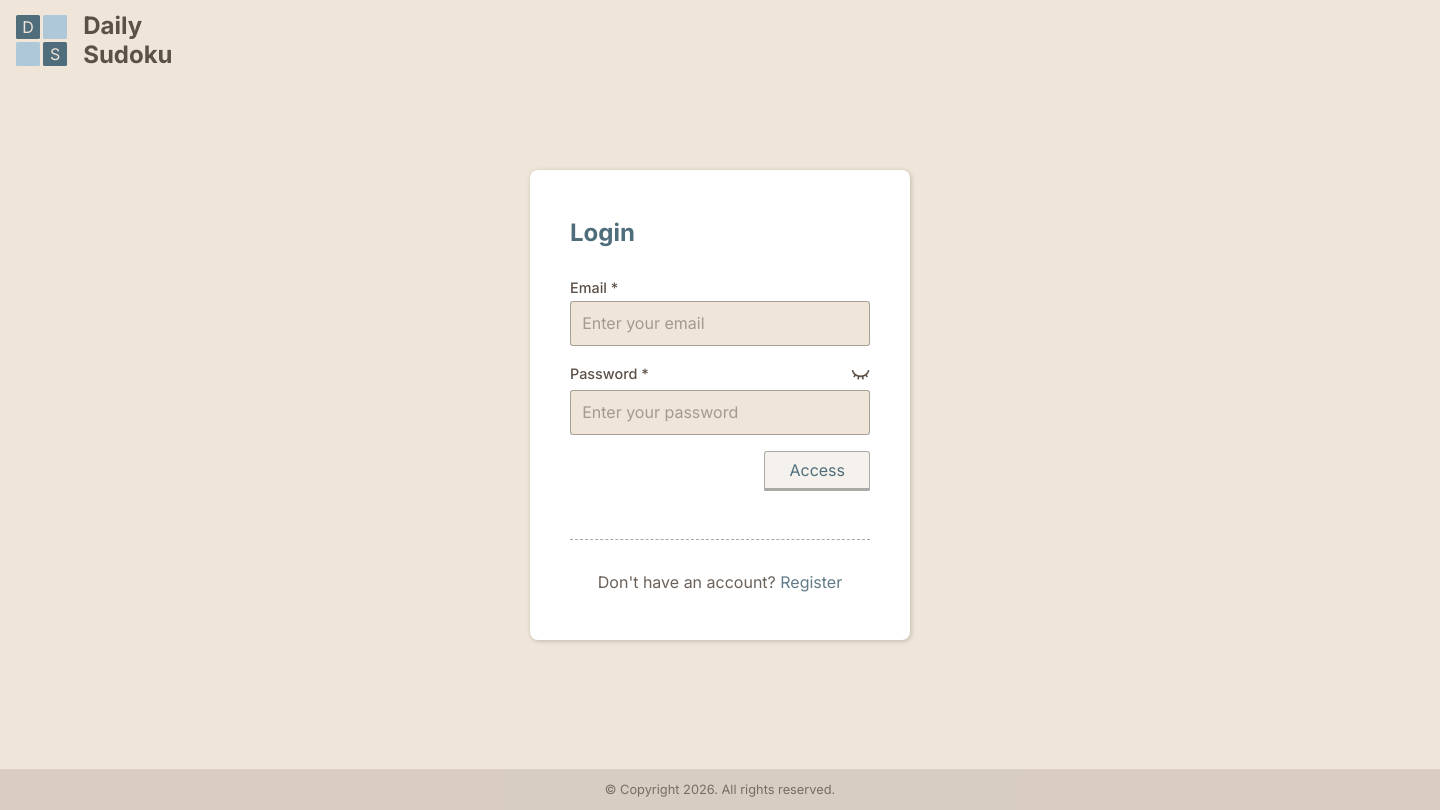
Login Page › shows error for invalid credentials
Type "wrongemail@example.com" into the field labelled "Email *" at (720, 323), box [570,301,870,346]
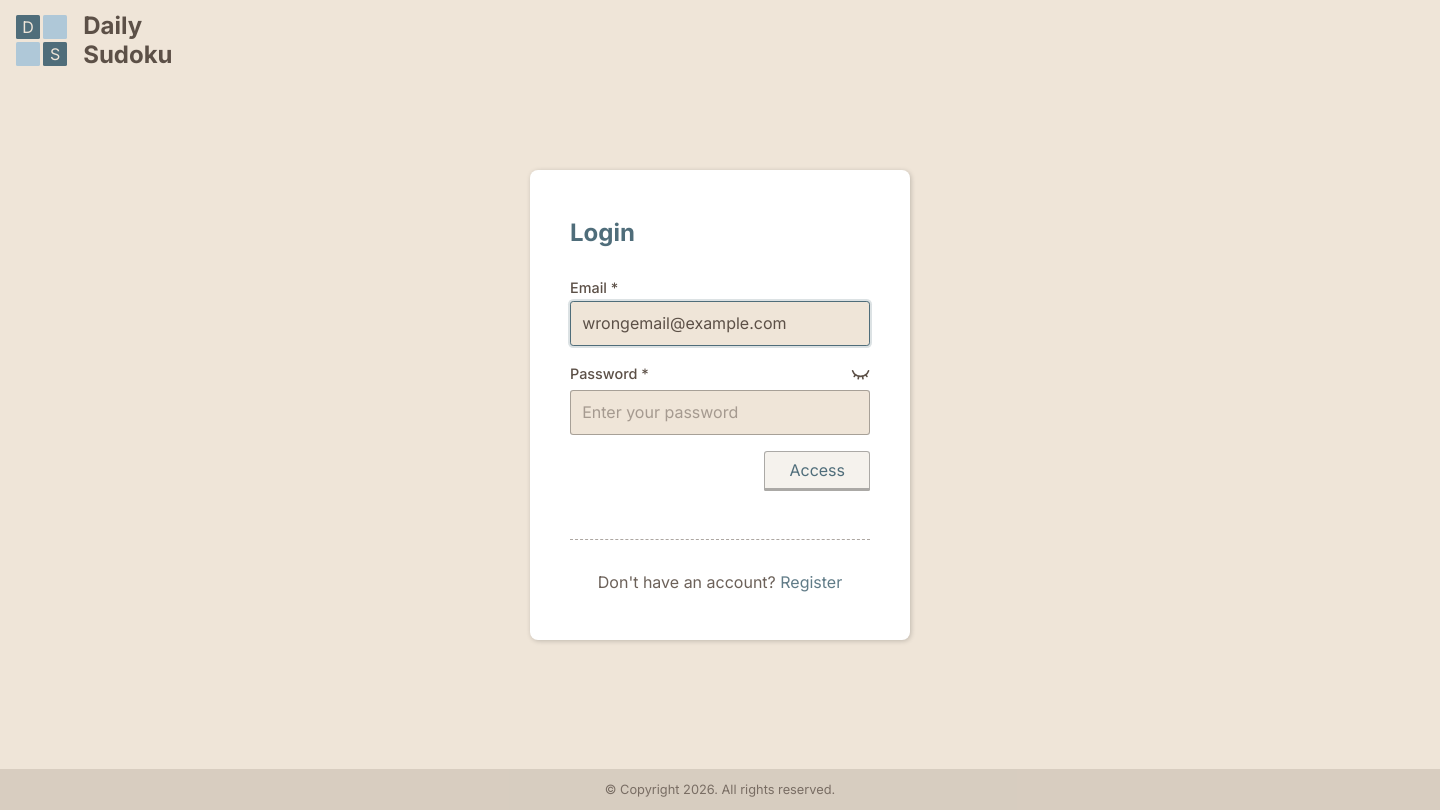
Type "some-password-invalid" into the password field labelled "Password *" at (720, 412), box [570,390,870,435]
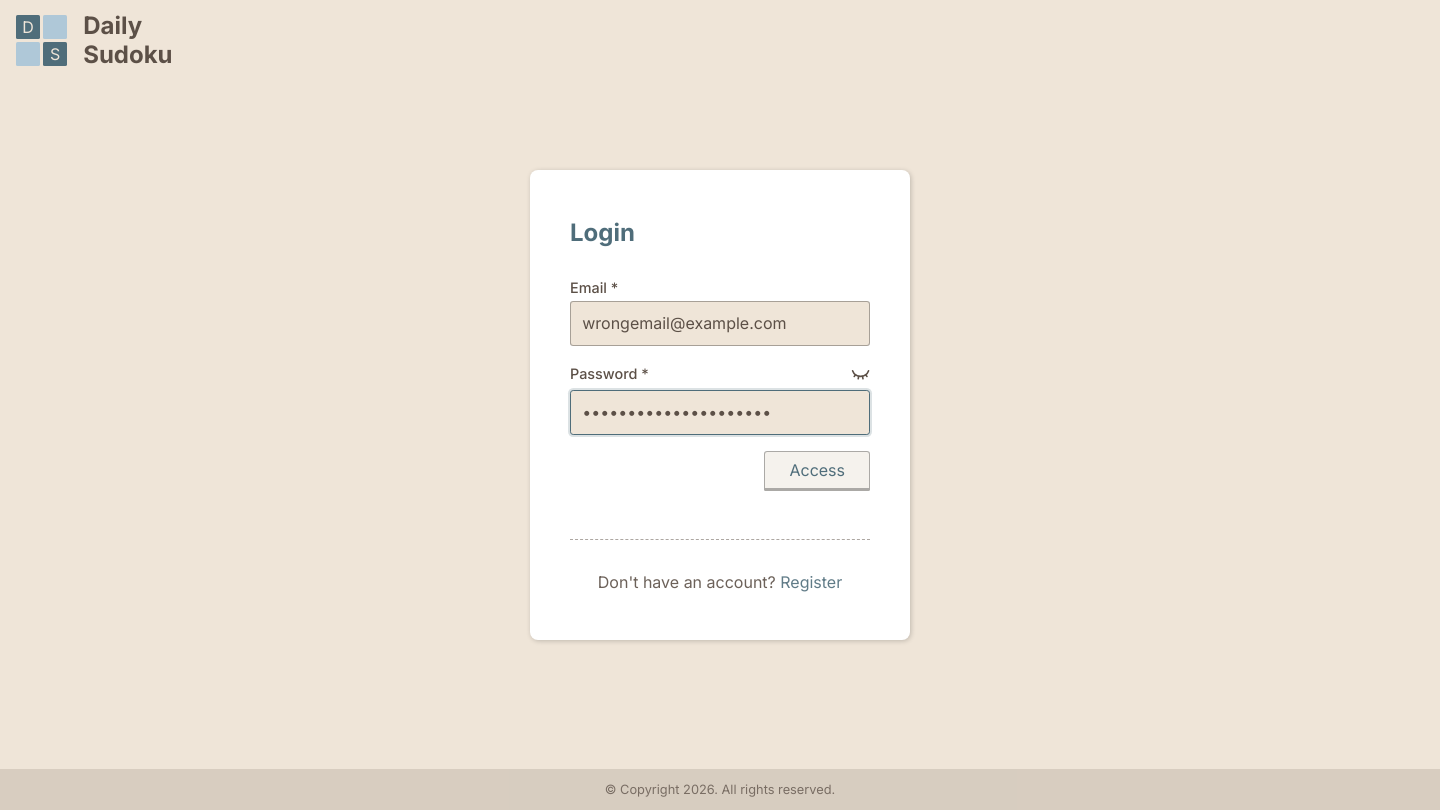
Click the button "Access" at (817, 471), box [764,451,870,491]
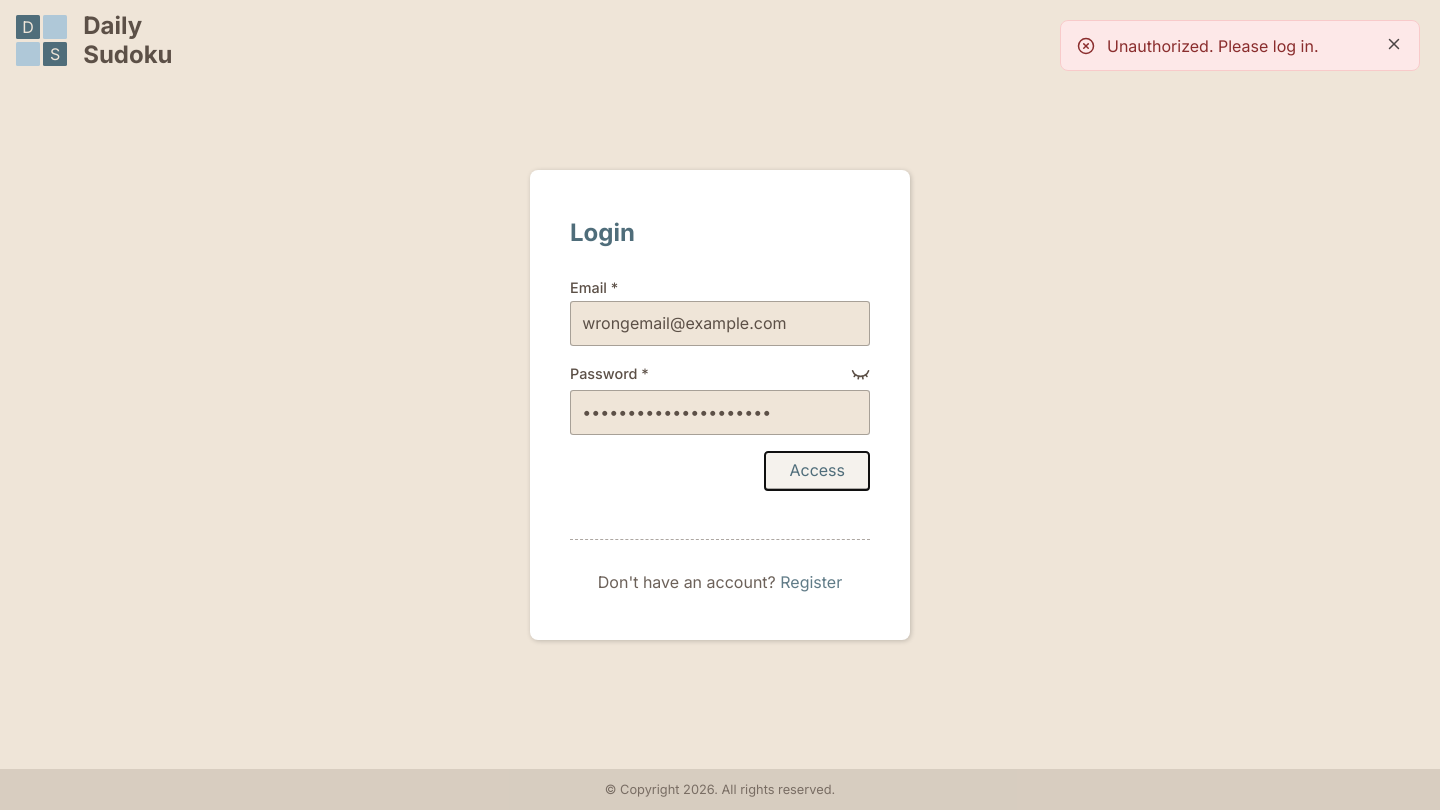
Expected: the text "Unauthorized. Please log in." is shown, [1107,36,1318,56]
